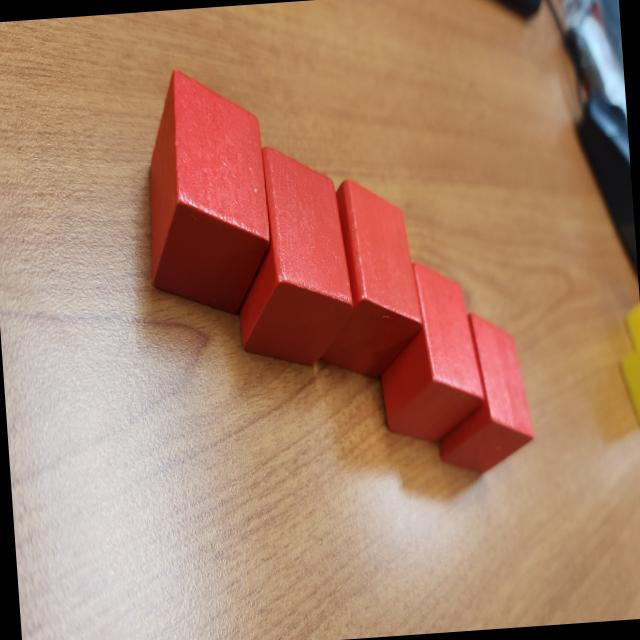red: (136, 64, 275, 321), (228, 141, 358, 370), (306, 172, 426, 386), (372, 256, 488, 448), (430, 309, 538, 478)
yellow: (621, 346, 640, 427), (622, 299, 640, 350)
